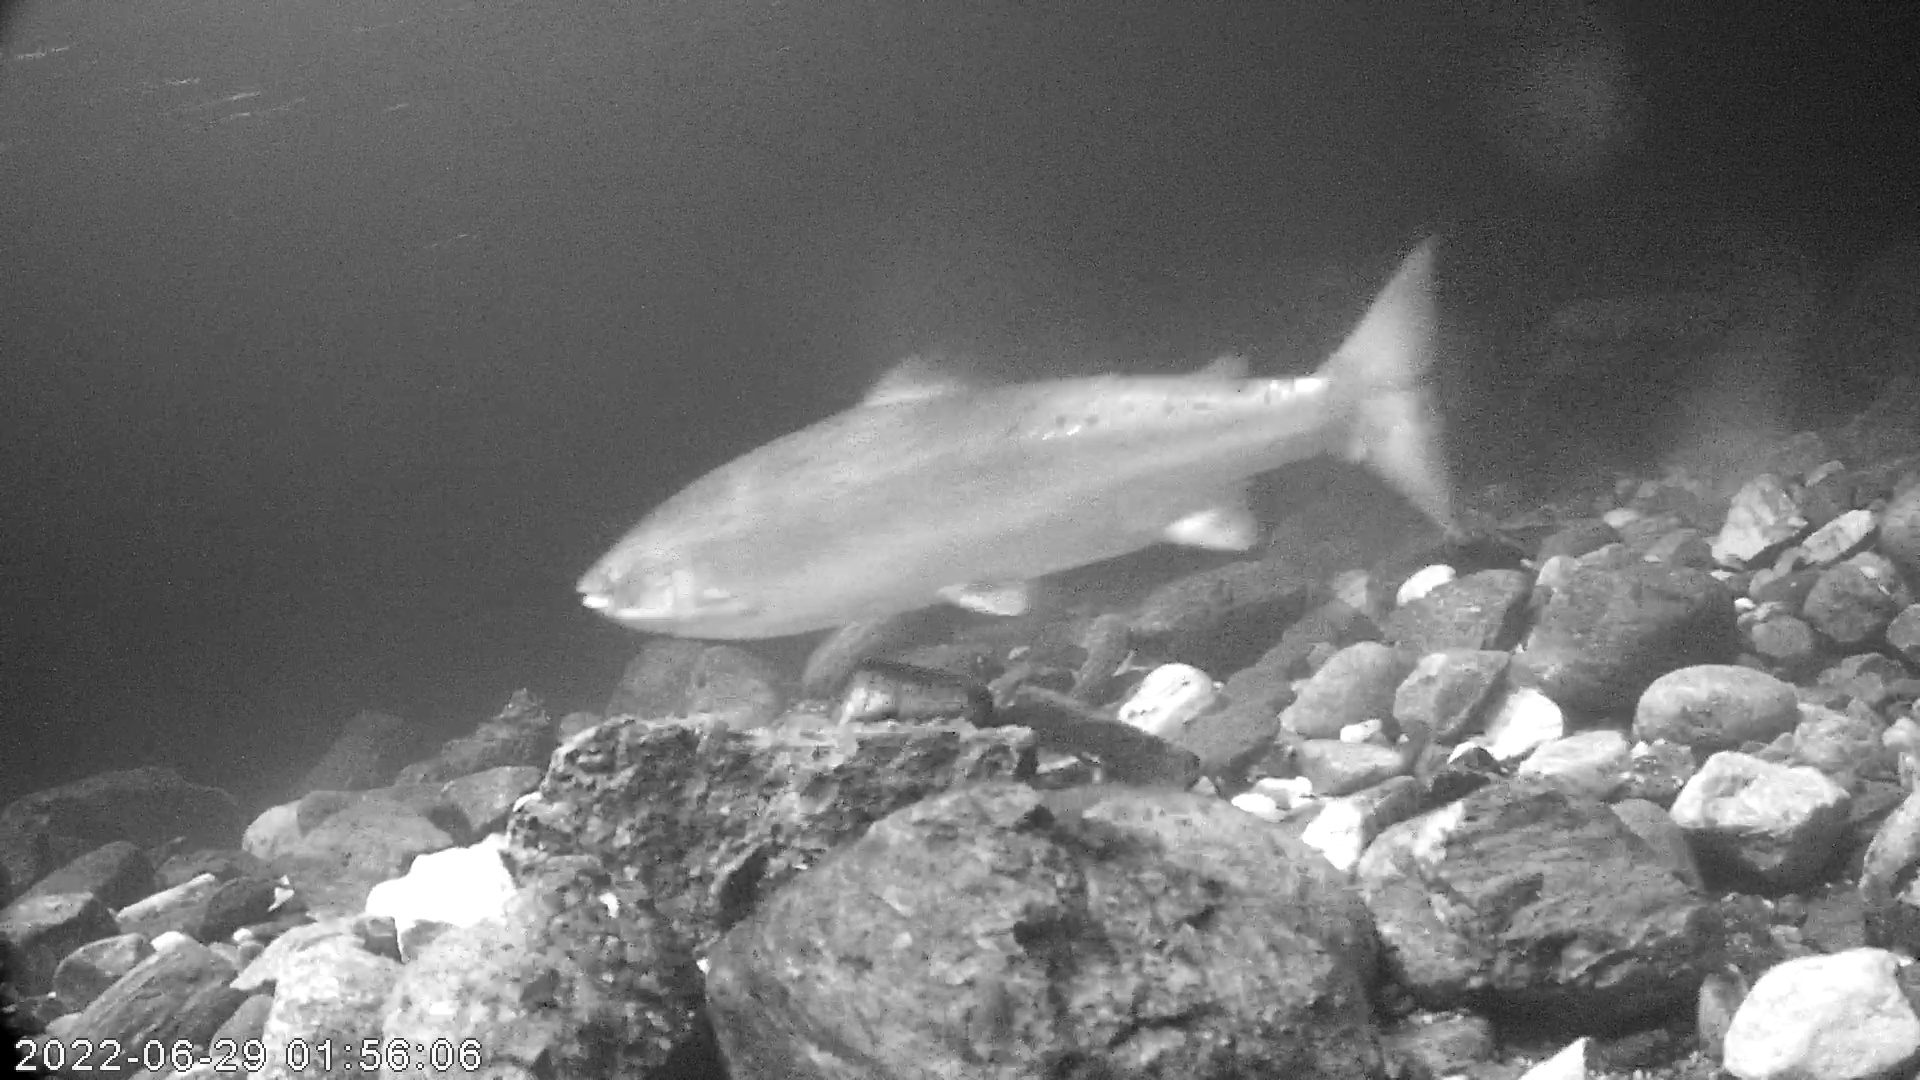salmon: (572, 215, 1448, 680)
